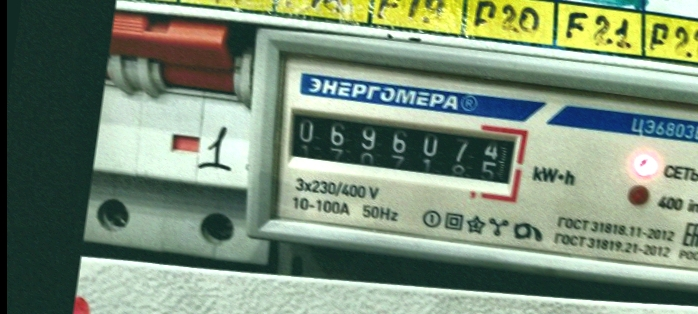0: (297, 115, 319, 142), (422, 129, 442, 157)
4: (485, 137, 501, 159)
5: (482, 159, 498, 179)
6: (328, 118, 349, 146), (392, 125, 411, 154)
7: (453, 135, 472, 162)
9: (360, 123, 380, 151)
screen: (279, 93, 533, 203)
